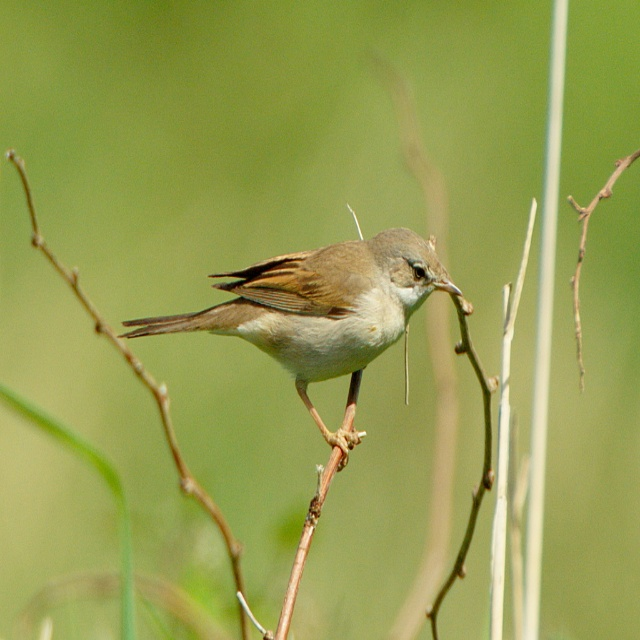Sparrow: (117, 225, 463, 469)
